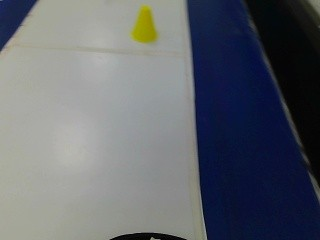cone: (127, 4, 167, 49)
